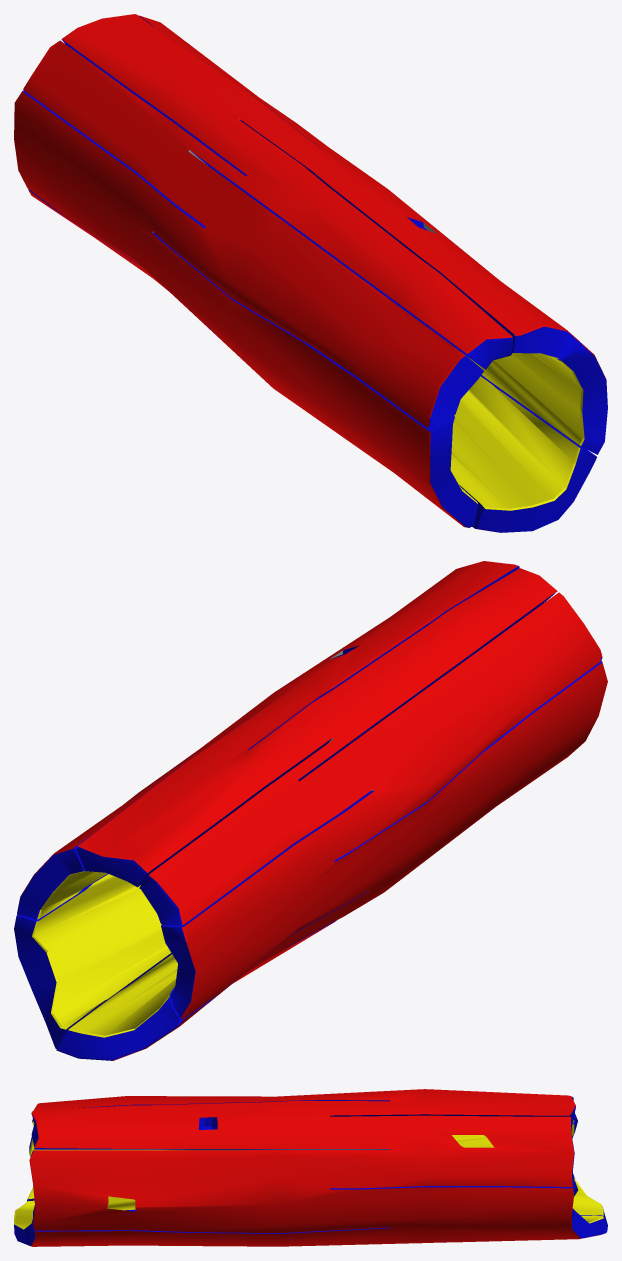
Rendered from huge_bark_plat.fbx.
3 views of the same model, one above another, from view 1: azimuth 30°, elevation 25°; view 2: azimuth 150°, elevation 25°; view 3: azimuth 270°, elevation 25° (orthographic). The views are drawn at different scales.
Visible parts, largest first — view 1: polySurface8; view 2: polySurface8; view 3: polySurface8.
Part boxes in pixels (x1,y1,x2,y2): polySurface8: [14, 14, 607, 532]; polySurface8: [14, 561, 607, 1060]; polySurface8: [14, 1089, 607, 1246].
Size of the model in its own units: 85.52 by 82.47 by 326.
